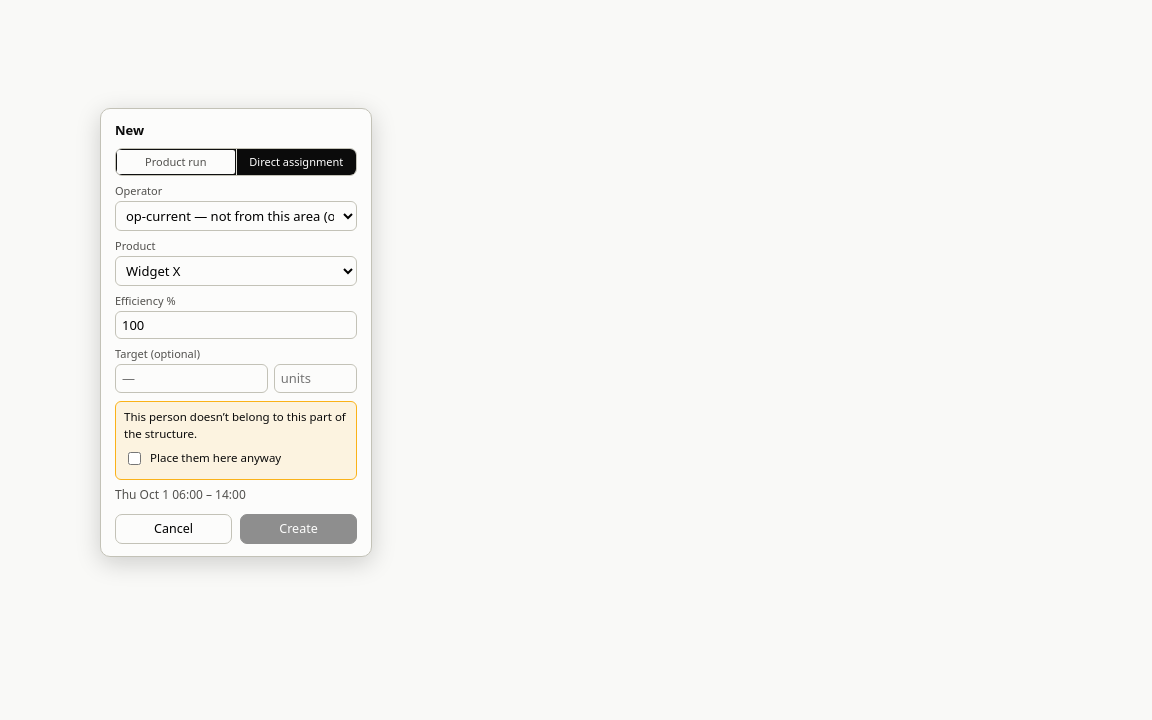
Test: D113: a person from another area of this plant is marked and asked why › the Product run tab offers no person, so it asks nothing about areas
This screenshot has width=1152, height=720.
Click the button "Product run": (176, 162) [116,149,236,175]
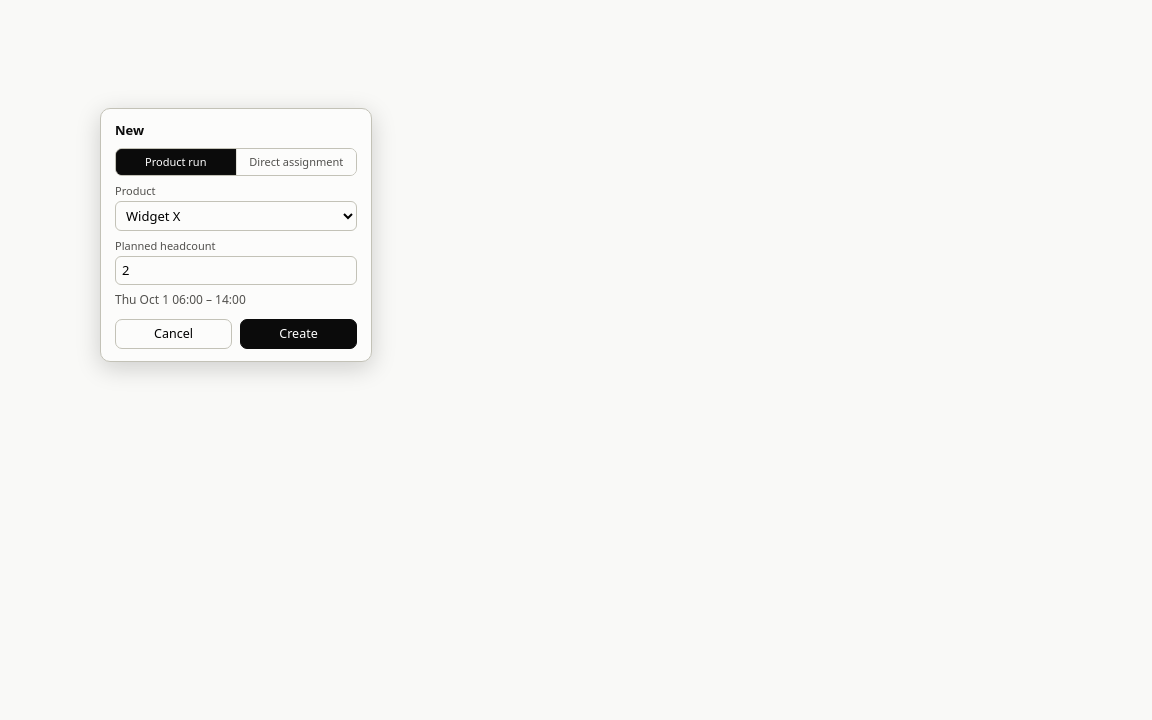
Check: the label labelled "Operator" is gone
Check: the text "belong to this part of the structure" is gone
Check: the button "Create" is enabled, box [240,319,357,349]
